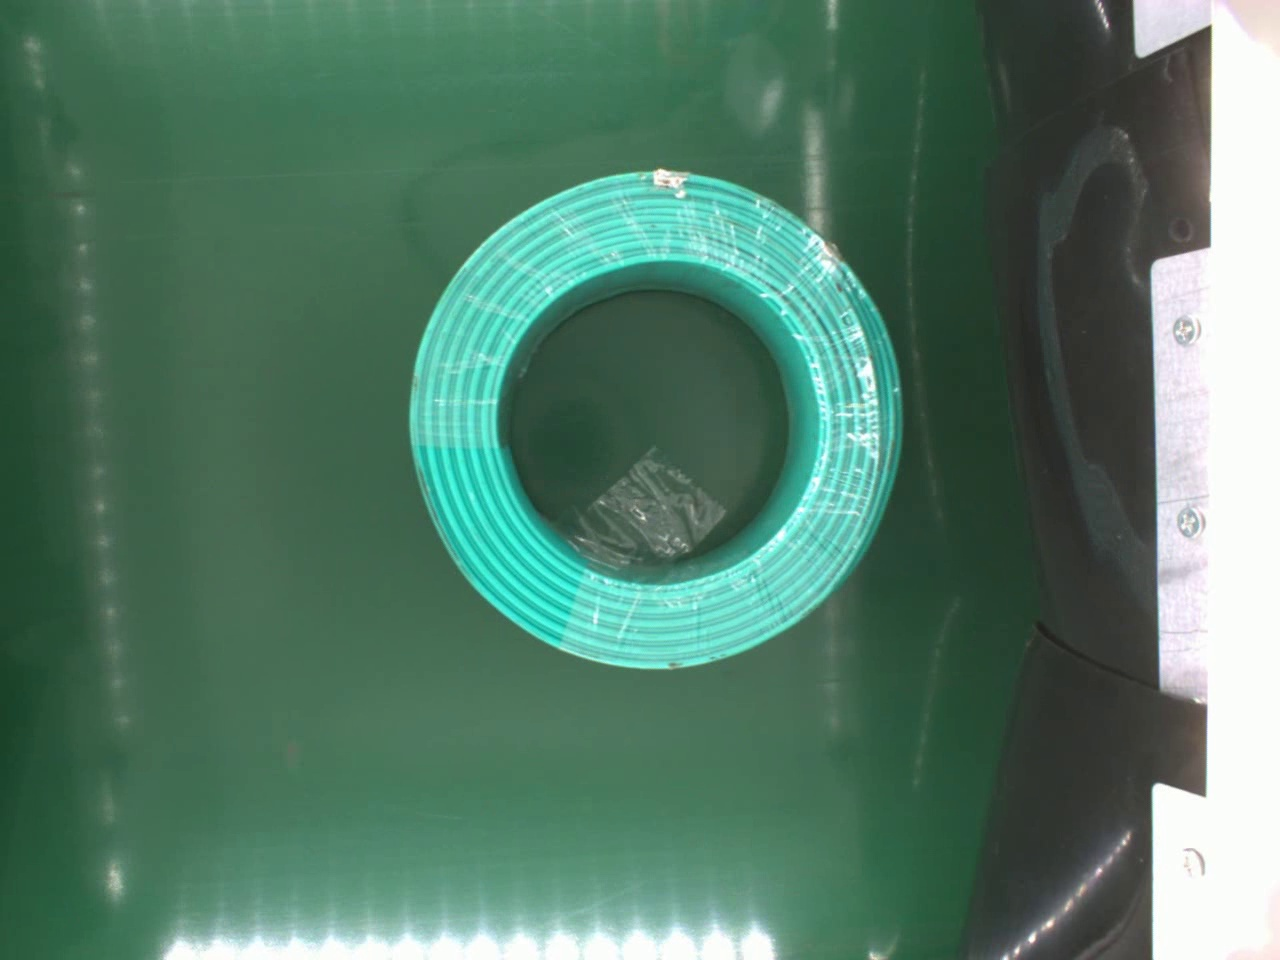green: (405, 162, 901, 672)
